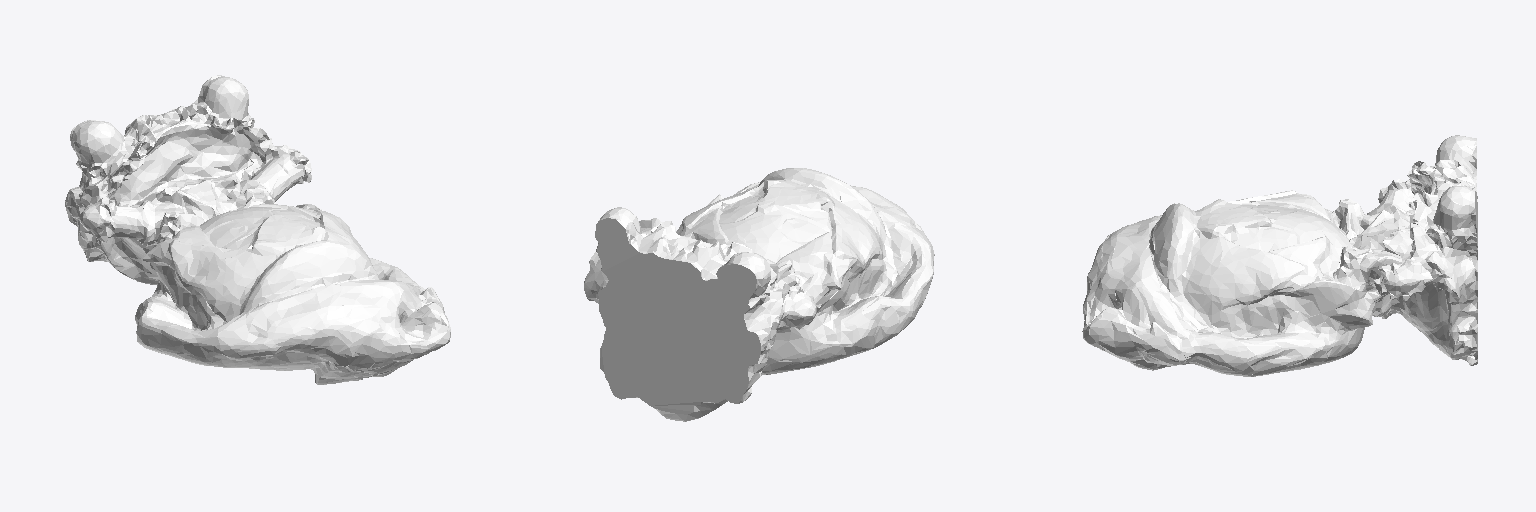
Rendered from remilia.obj.
The picture shows the model from 3 angles: view 1: azimuth 30°, elevation 25°; view 2: azimuth 150°, elevation 25°; view 3: azimuth 270°, elevation 25°; orthographic projection.
Parts seen in each view (by area): view 1: fumo2; view 2: fumo2; view 3: fumo2.
Boxes of the visible parts, <box> form: fumo2: <box>65,75,450,384</box>; fumo2: <box>584,168,934,421</box>; fumo2: <box>1082,135,1477,376</box>.
Size of the model in its own units: 24.09 by 17.1 by 31.42.